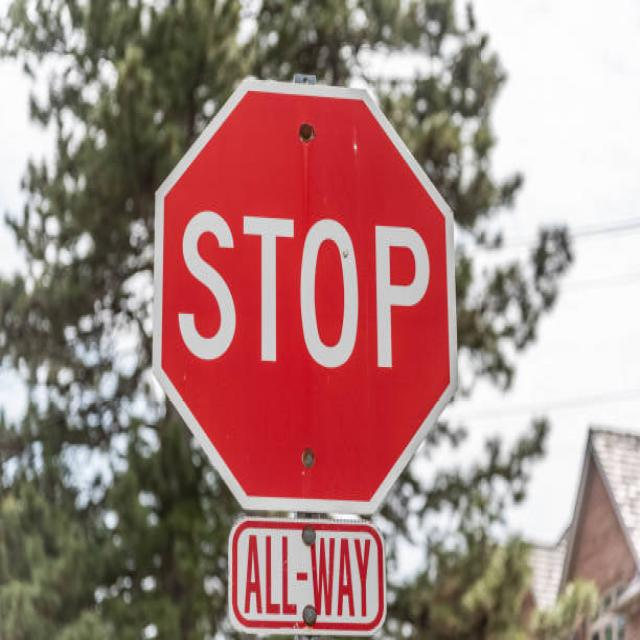stop: (137, 67, 470, 519)
